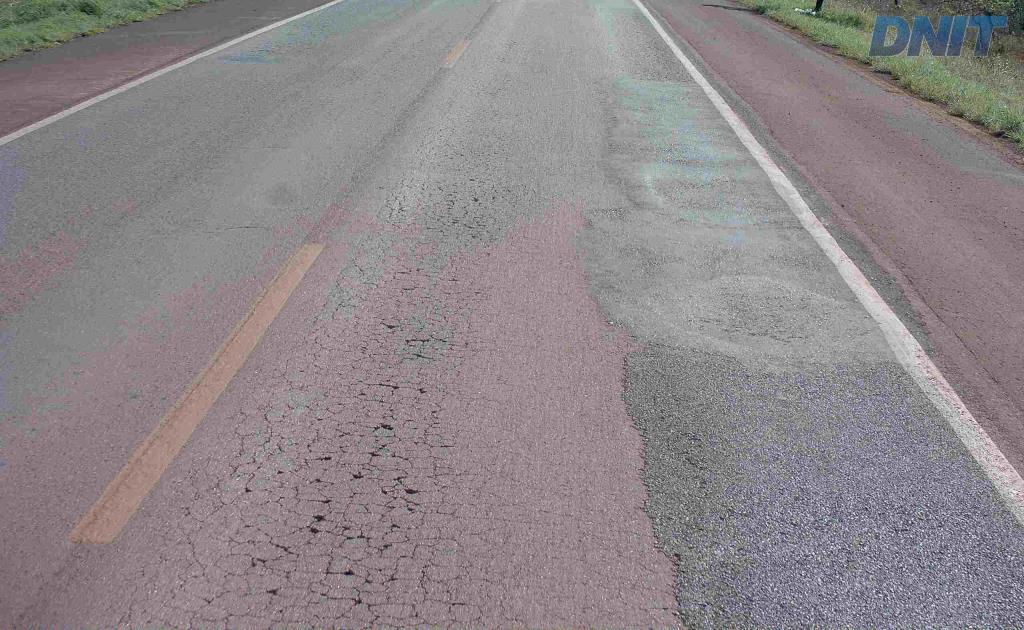crack: (289, 487, 392, 586), (347, 439, 414, 485), (388, 324, 449, 368), (380, 467, 421, 512)
